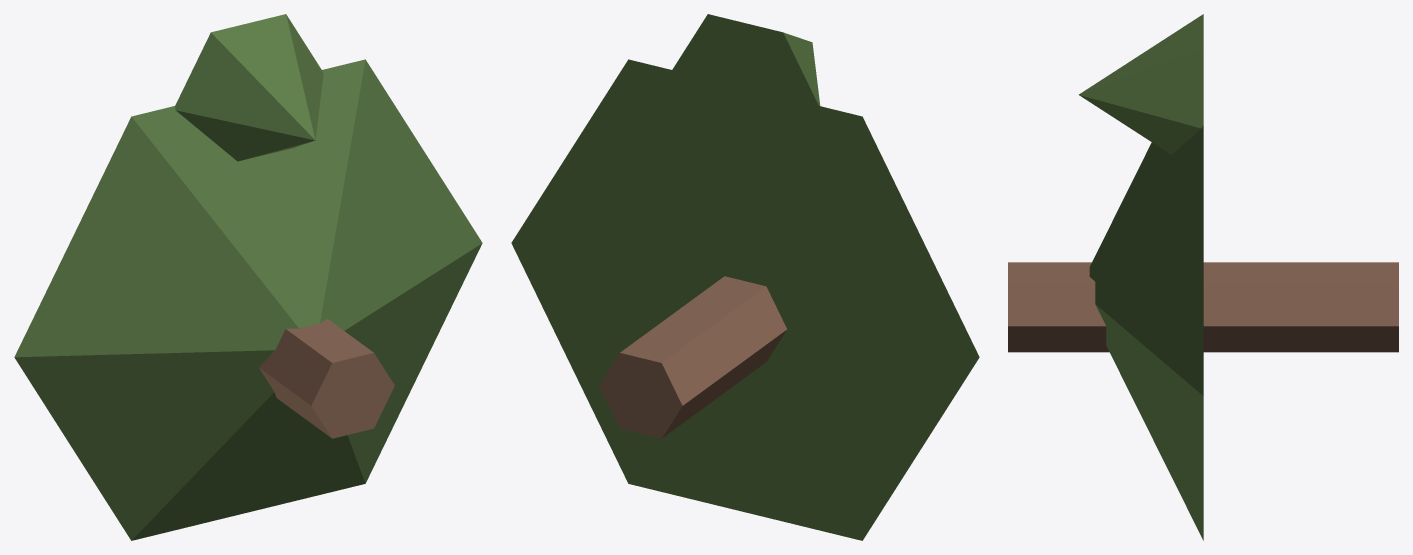
File: tree_s2_02.glb
3 renders of one model, left to right at view 1: azimuth 30°, elevation 25°; view 2: azimuth 150°, elevation 25°; view 3: azimuth 270°, elevation 25°, orthographic. The views are drawn at different scales.
Parts seen in each view (by area): view 1: geometry_0; view 2: geometry_0; view 3: geometry_0.
Part boxes in pixels (x1=…): geometry_0: x1=14, y1=14, x2=482, y2=540; geometry_0: x1=511, y1=14, x2=979, y2=540; geometry_0: x1=1008, y1=14, x2=1398, y2=540.
Bounding box in the file's own units: 3.61 × 3.6 × 2.79.
